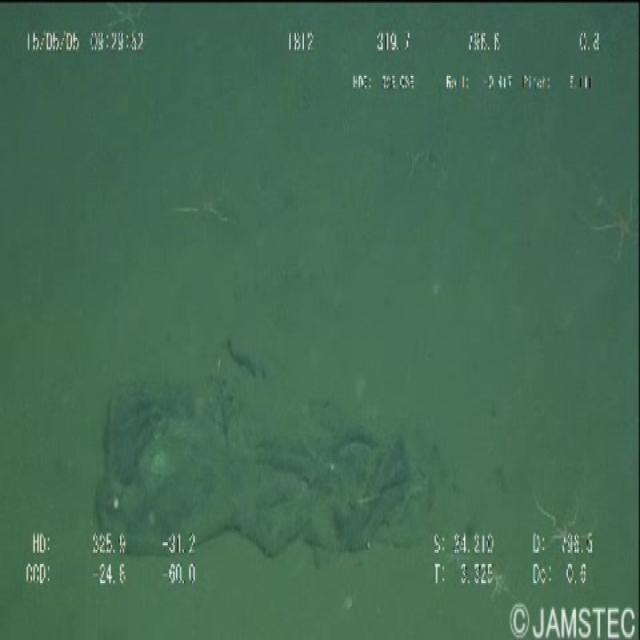Rope: (96, 363, 445, 580)
